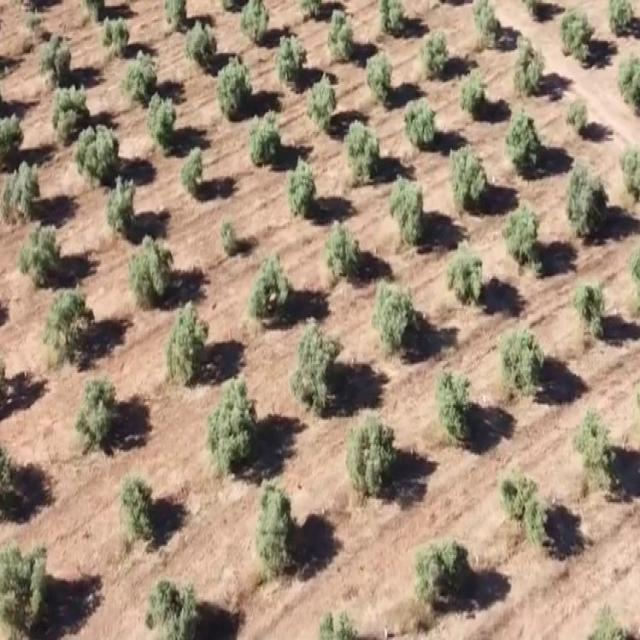trees: (486, 456, 562, 570), (0, 497, 60, 640), (58, 362, 133, 474), (39, 268, 105, 389), (402, 519, 484, 612), (197, 366, 264, 479), (341, 399, 408, 505), (568, 387, 624, 502), (248, 474, 302, 592), (288, 307, 339, 424), (368, 274, 431, 367), (159, 290, 209, 406), (237, 238, 295, 336), (138, 558, 207, 638), (112, 460, 164, 558), (384, 156, 432, 262), (496, 312, 549, 407), (562, 147, 607, 256), (432, 349, 479, 452), (441, 226, 492, 314), (45, 70, 96, 155), (128, 228, 177, 314), (446, 132, 495, 218), (243, 95, 286, 186), (22, 219, 70, 299), (77, 103, 125, 183), (501, 192, 544, 280), (498, 105, 544, 187), (568, 269, 614, 350), (100, 154, 144, 238), (322, 205, 367, 283), (265, 23, 313, 93), (212, 49, 258, 122), (283, 149, 322, 235), (6, 156, 45, 240), (506, 29, 549, 105), (553, 0, 599, 71), (339, 119, 383, 191), (556, 74, 596, 151), (362, 44, 401, 115), (120, 41, 164, 103), (322, 3, 362, 70), (457, 62, 496, 130), (400, 88, 445, 145), (412, 28, 457, 82), (463, 0, 506, 56), (301, 70, 339, 133), (181, 10, 220, 71), (147, 82, 178, 155), (208, 203, 244, 264), (98, 4, 134, 59), (374, 0, 416, 47), (178, 138, 208, 202), (43, 26, 71, 92), (238, 0, 271, 53)
